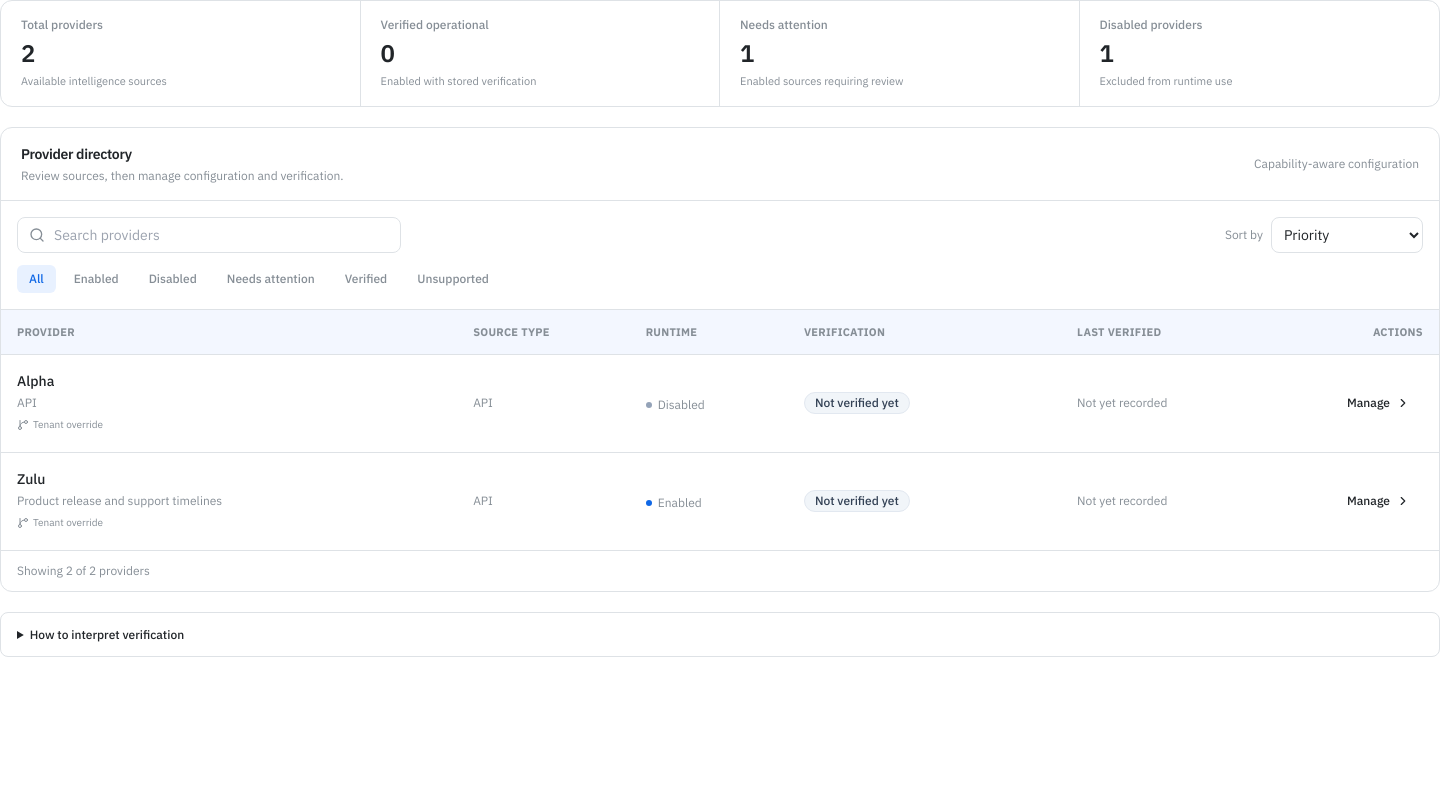
LifecycleProviderSettings enterprise directory › searches, filters, clears empty results and sorts by actual priority/name
expect the button with aria-label "Manage Zulu" is shown: met, box x1=1334 y1=485 x2=1423 y2=517
expect the row that starts with "Alpha" is shown: met, box x1=17 y1=370 x2=54 y2=390
Select "Name" in the dropdown named "Sort providers": (1347, 234) x1=1271 y1=216 x2=1423 y2=252
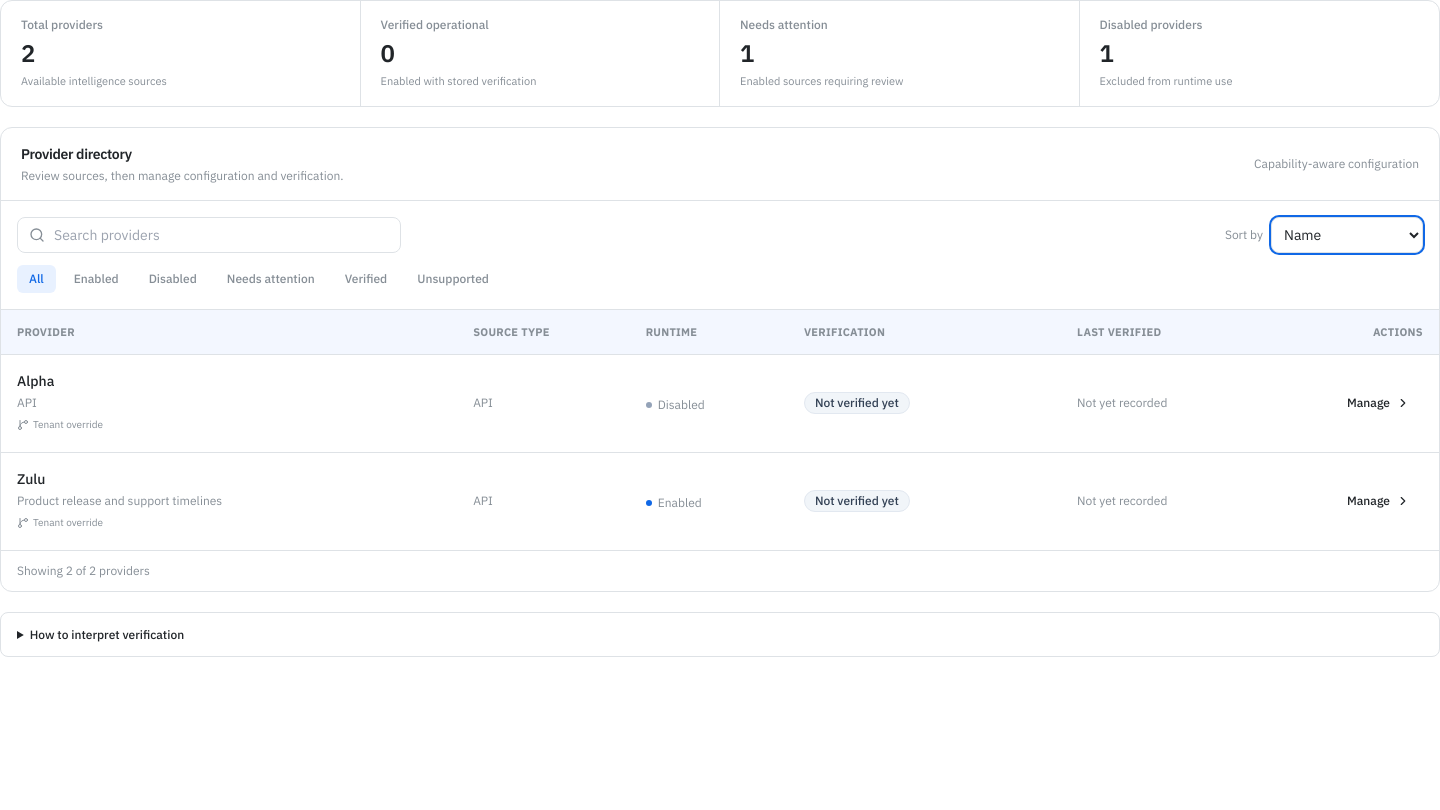
expect the row that starts with "Alpha" is shown: met, box x1=17 y1=370 x2=54 y2=390
Click the button "Enabled": (96, 278) x1=62 y1=264 x2=131 y2=292
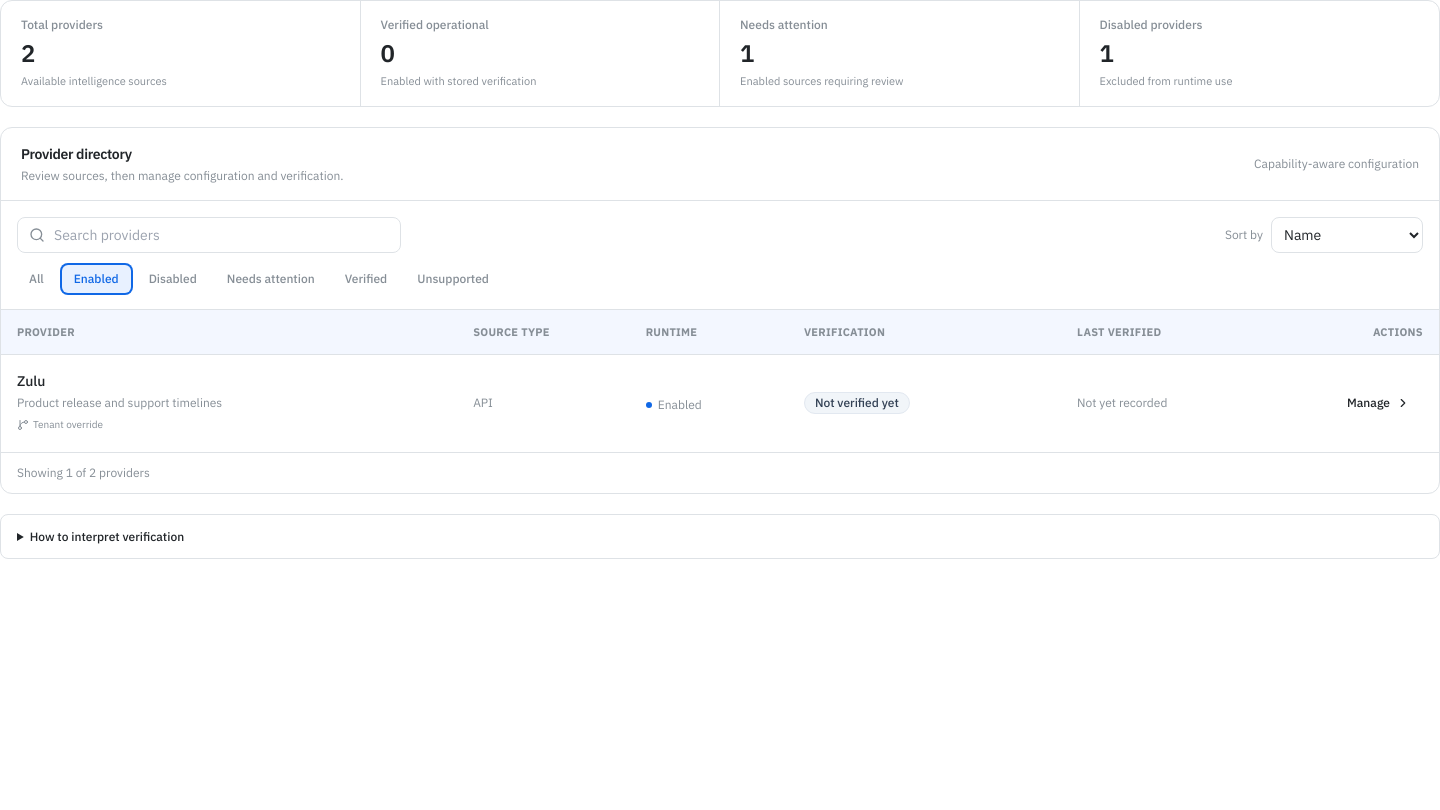
expect the button "Manage Alpha" is gone: met
In the field labelled "Search providers": (209, 234) x1=17 y1=216 x2=401 y2=252, type "missing"
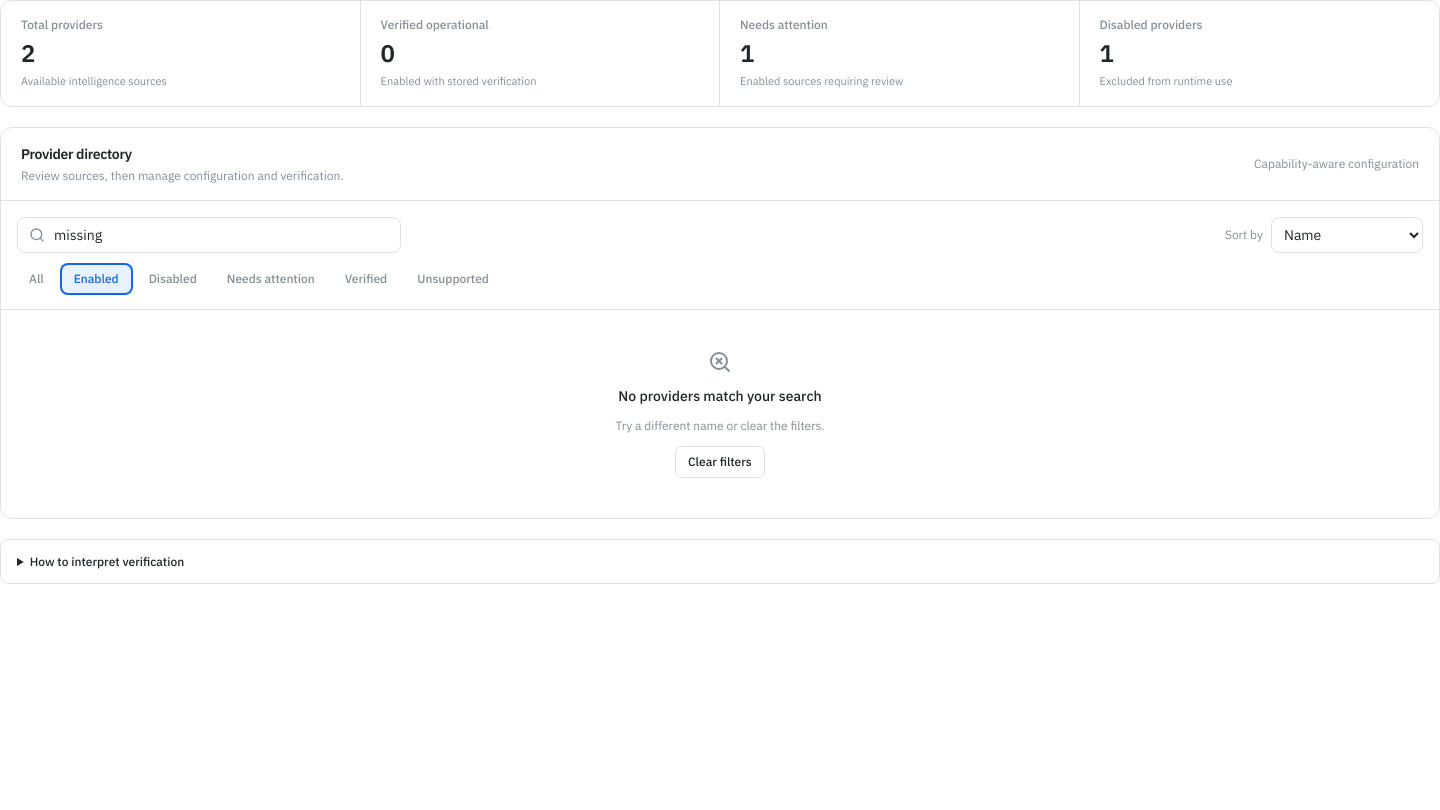
expect the text "No providers match your search" is shown: met, box x1=618 y1=386 x2=822 y2=404
Click the button "Clear filters": (720, 462) x1=675 y1=446 x2=765 y2=478
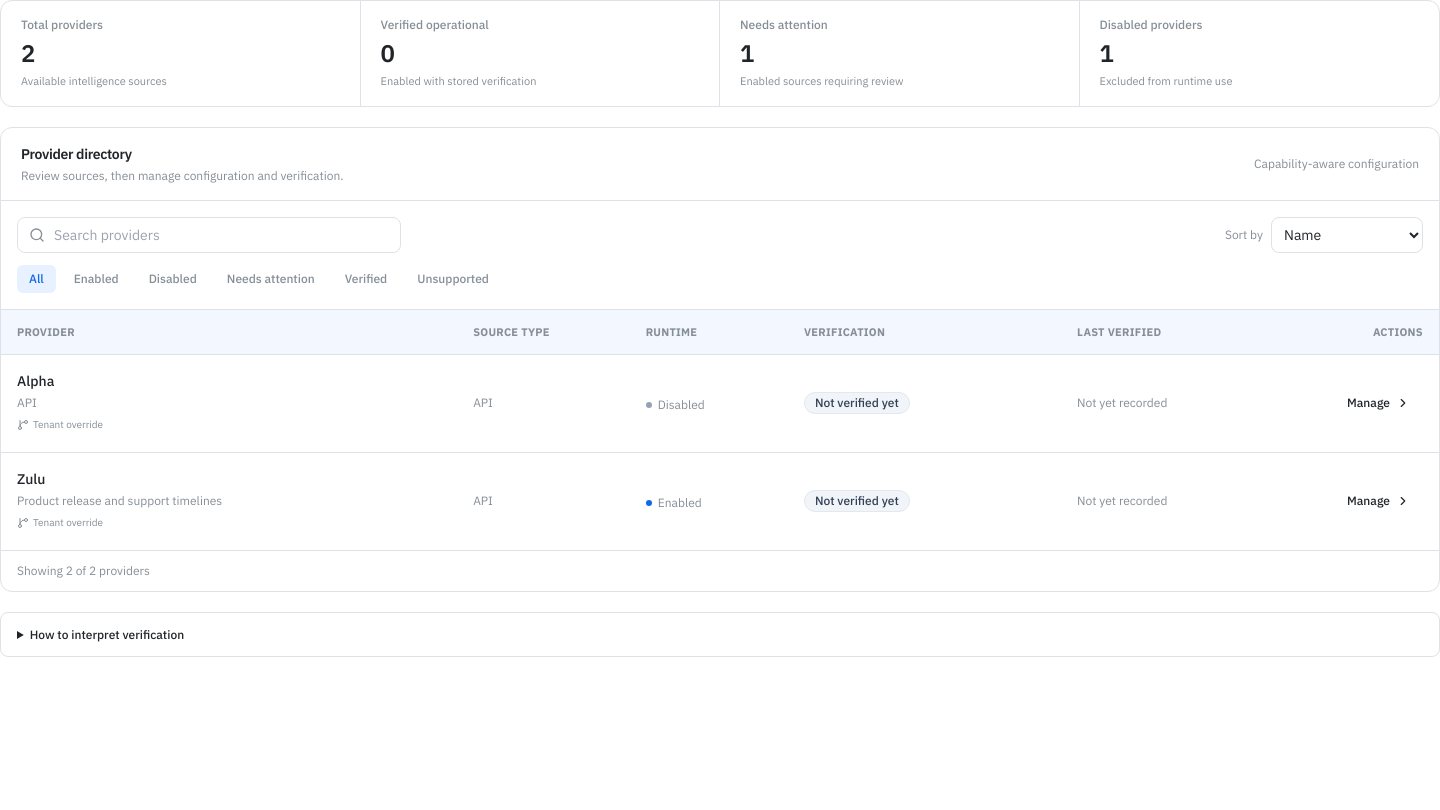
expect the button with aria-label "Manage Alpha" is shown: met, box x1=1334 y1=387 x2=1423 y2=419
